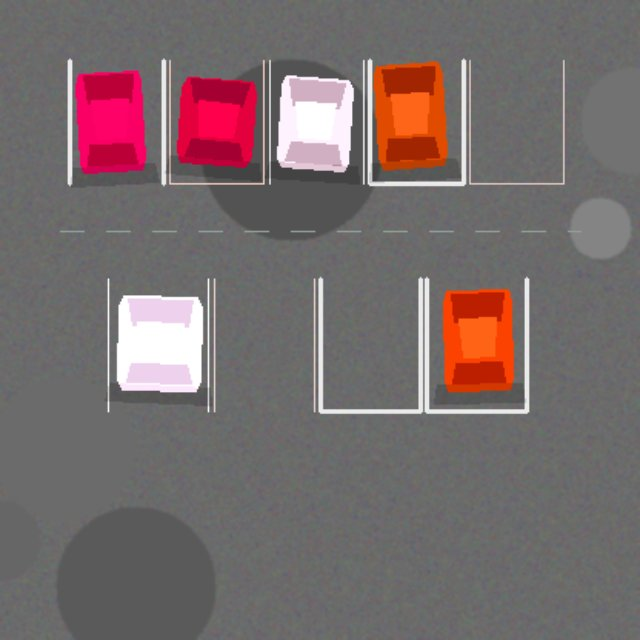space-empty: (214, 278, 314, 411), (320, 278, 420, 411), (469, 60, 563, 183)
space-occupied: (108, 278, 208, 411), (426, 278, 526, 411), (69, 60, 163, 183), (169, 60, 263, 183), (269, 60, 363, 183), (369, 60, 463, 183)
